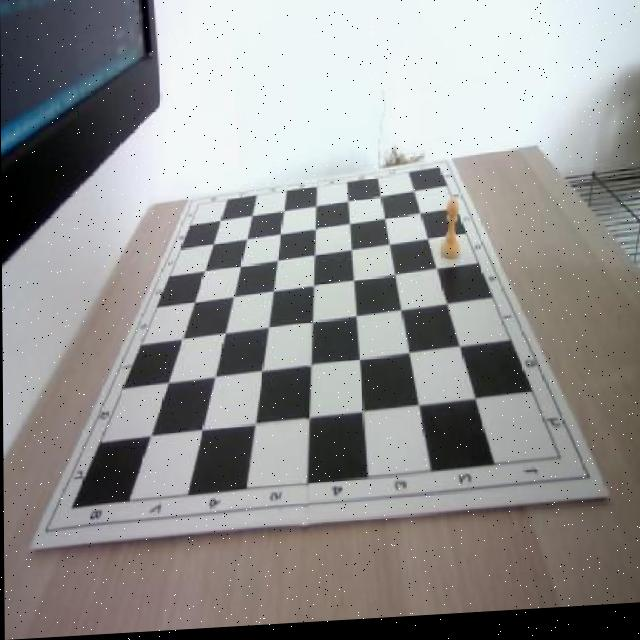white-knight: (439, 202, 460, 266)
